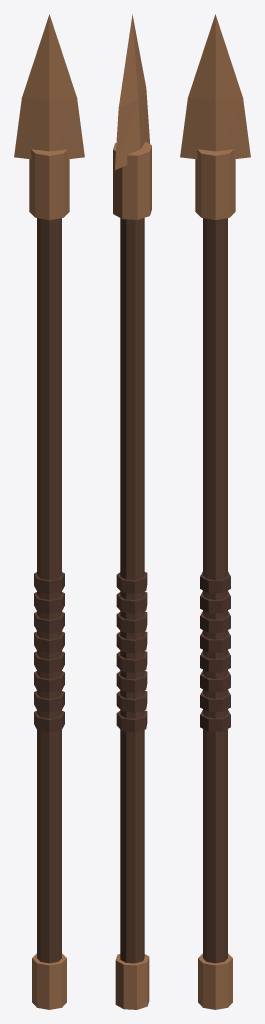
File: spear_copper.glb
3 renders of one model, left to right at view 1: azimuth 90°, elevation 25°; view 2: azimuth 150°, elevation 25°; view 3: azimuth 270°, elevation 25°, orthographic.
Visible parts, largest first — view 1: geometry; view 2: geometry; view 3: geometry.
Part boxes in pixels (x1,y1,x2,y2): geometry: (14,14,84,1009); geometry: (113,14,151,1009); geometry: (180,14,250,1009).
Size of the model in its own units: 0.074 by 2 by 0.13.
